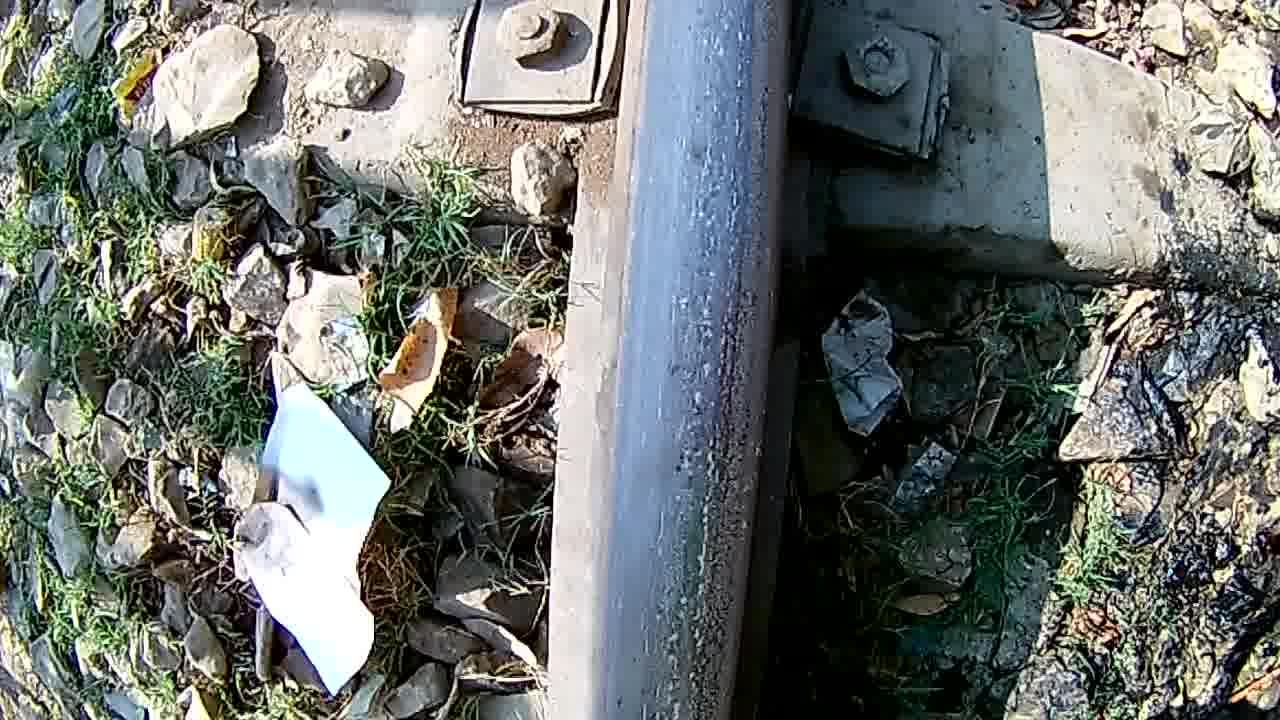clip_missing: (623, 3, 752, 720)
